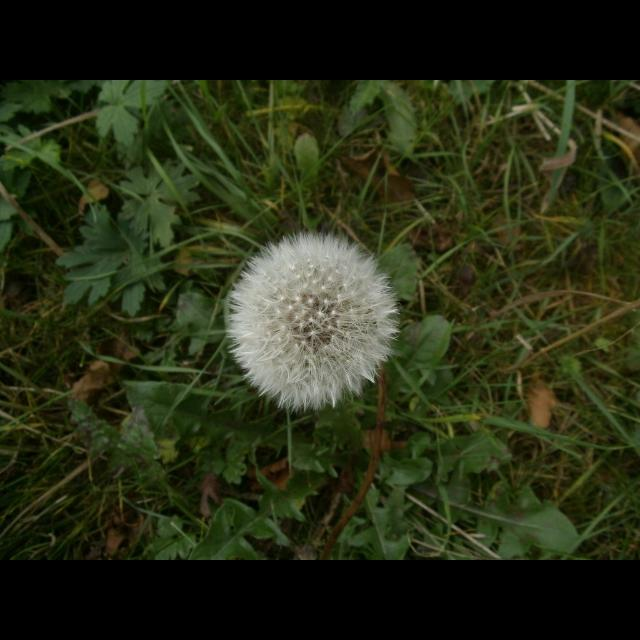Flower: (224, 230, 402, 412)
